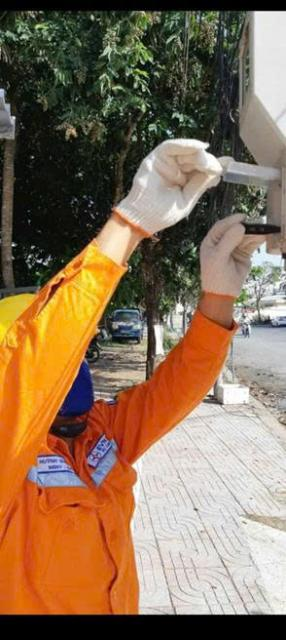gloves: (103, 135, 221, 236), (195, 196, 273, 312)
